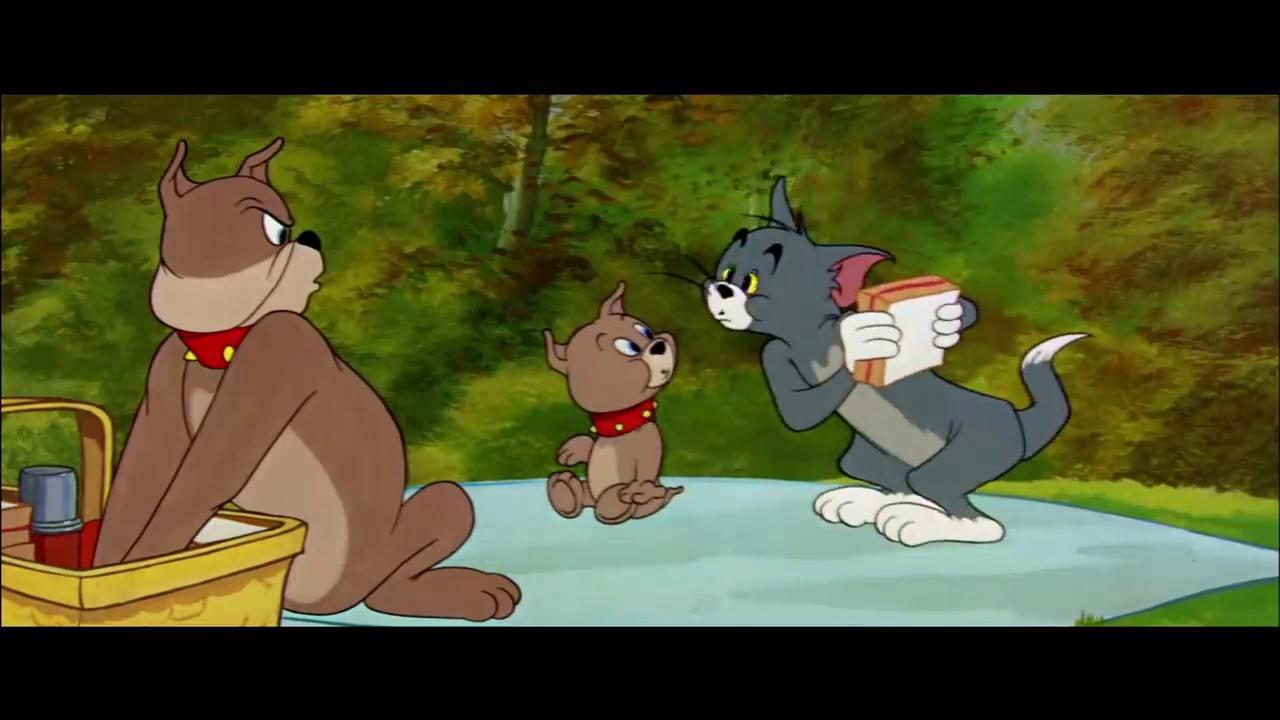Tom: (700, 174, 1095, 549)
